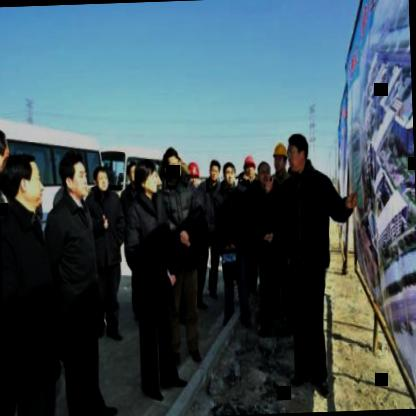head: (0, 151, 44, 210), (58, 150, 90, 202), (284, 130, 312, 178), (136, 158, 159, 202), (160, 143, 184, 182), (0, 121, 12, 181), (92, 164, 112, 194), (258, 160, 274, 190), (222, 162, 236, 190), (124, 158, 138, 186)
helmet: (272, 140, 287, 177), (242, 153, 256, 179), (186, 160, 200, 186)
